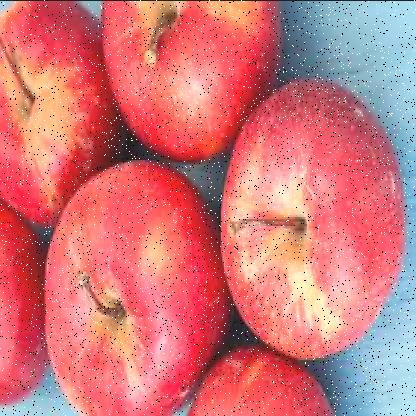apple: (223, 75, 402, 341), (59, 166, 212, 409), (1, 2, 112, 222), (113, 2, 262, 148)
